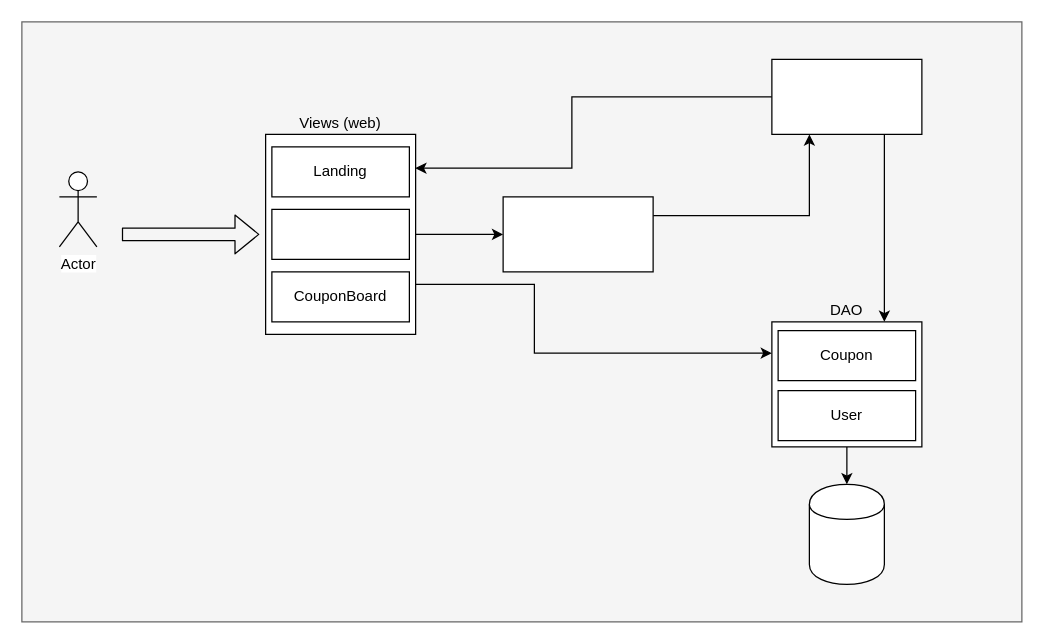
Some shapes in this 1044 by 644 pixel diagram are drawn without their labels. The centre of each missing label's shape, as x and y in pixels:
Account: the point at 340,233
Controllers: the point at 846,96
Proxy: the point at 577,234
